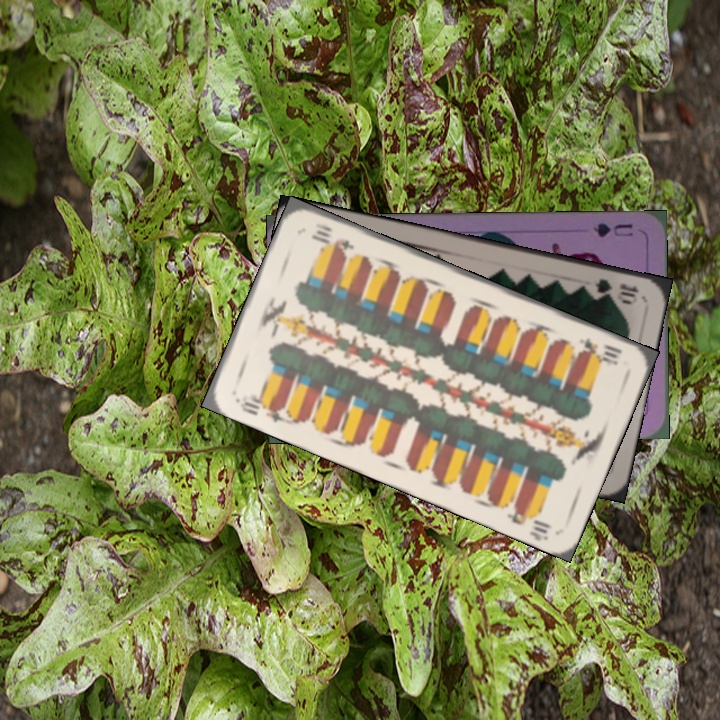E10: (231, 390, 287, 425), (575, 334, 625, 368)
G10: (591, 274, 642, 301)
GU: (588, 219, 635, 240)
